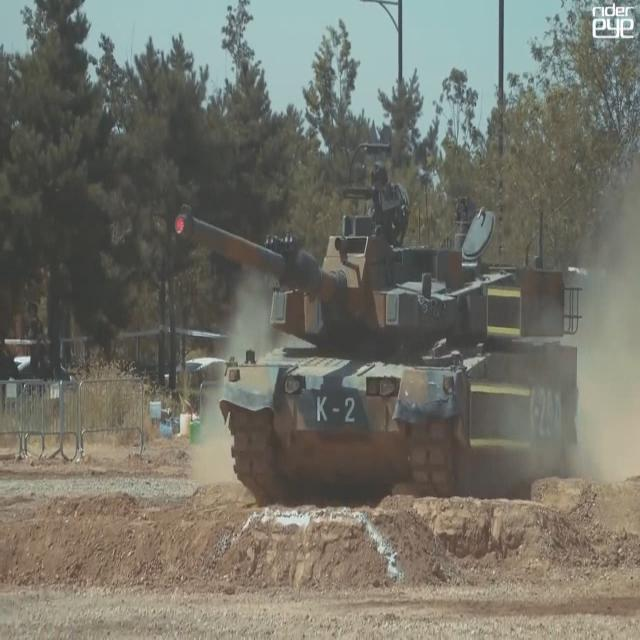korea tank: (172, 159, 582, 507)
